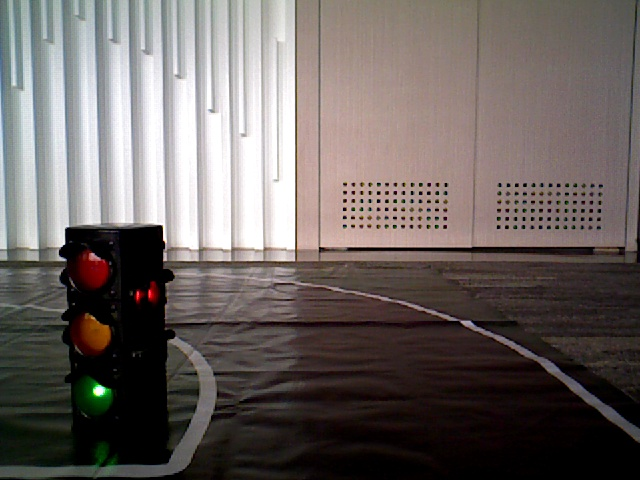green: (67, 230, 131, 419)
